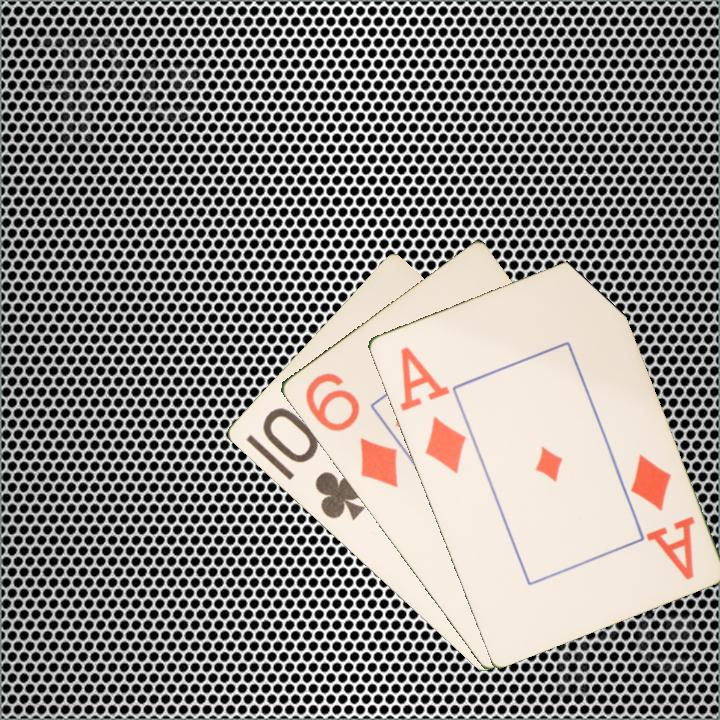10c: (257, 403, 368, 523)
6d: (301, 368, 401, 491)
Ad: (395, 342, 469, 476), (626, 450, 698, 583)
